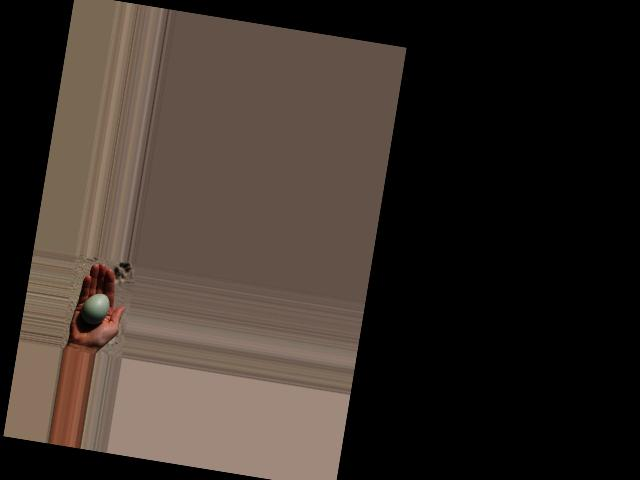egg: (79, 290, 110, 325)
